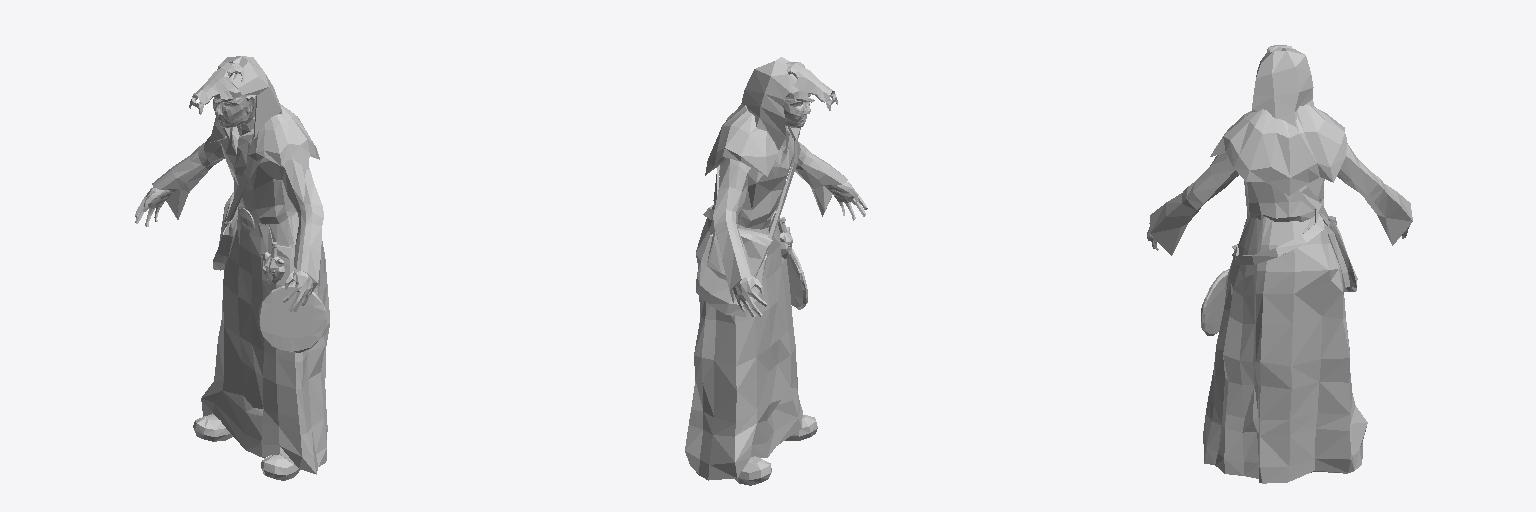
File: chaman.obj
3 views of the same model, side by side, from view 1: azimuth 30°, elevation 25°; view 2: azimuth 150°, elevation 25°; view 3: azimuth 270°, elevation 25° (orthographic).
Visible parts, largest first — view 1: Shaman; view 2: Shaman; view 3: Shaman.
Boxes of the visible parts, x1,y1,x2,y2 form: Shaman: [135, 56, 329, 480]; Shaman: [685, 57, 867, 485]; Shaman: [1147, 45, 1412, 483].
Size of the model in its own units: 46.42 by 137 by 82.77.